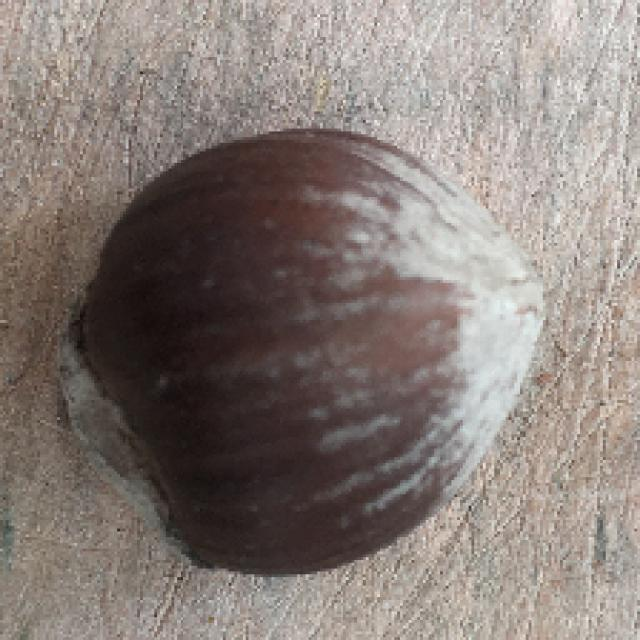damagedHazelnut: (70, 124, 542, 578)
